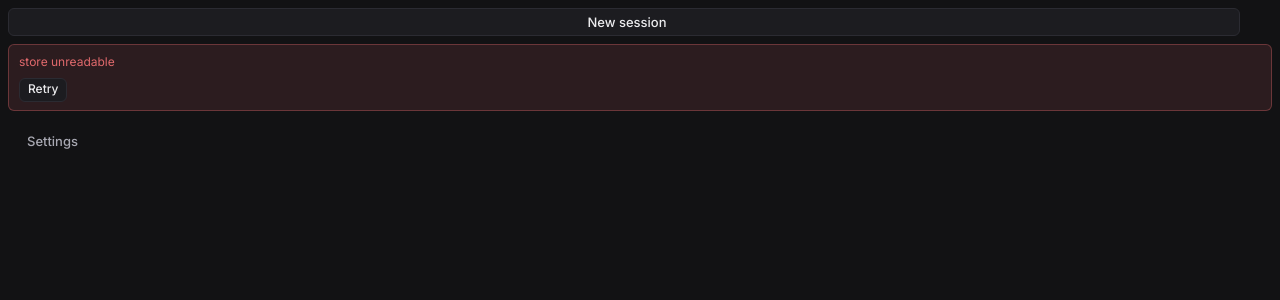
Test: the sidebar › a list that cannot be loaded is an error with a Retry, and the rest of the panel works
Check: the message "store unreadable Retry" is shown, box [8,44,1272,111]
Click the button "Retry" at (43, 90), box [19,78,68,102]
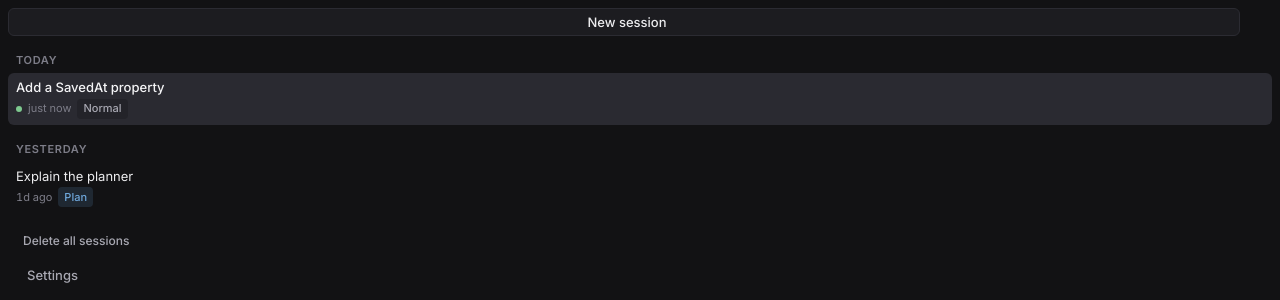
Check: the message "store unreadable Retry" is gone
Check: the text "Explain the planner" is shown, box [16,168,133,185]
